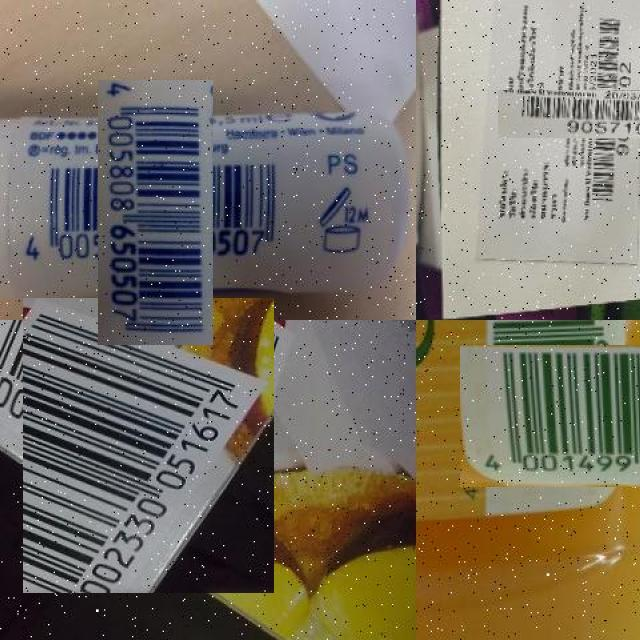Barcode: (11, 309, 285, 582), (60, 117, 251, 308), (473, 332, 639, 500), (542, 46, 640, 183)
